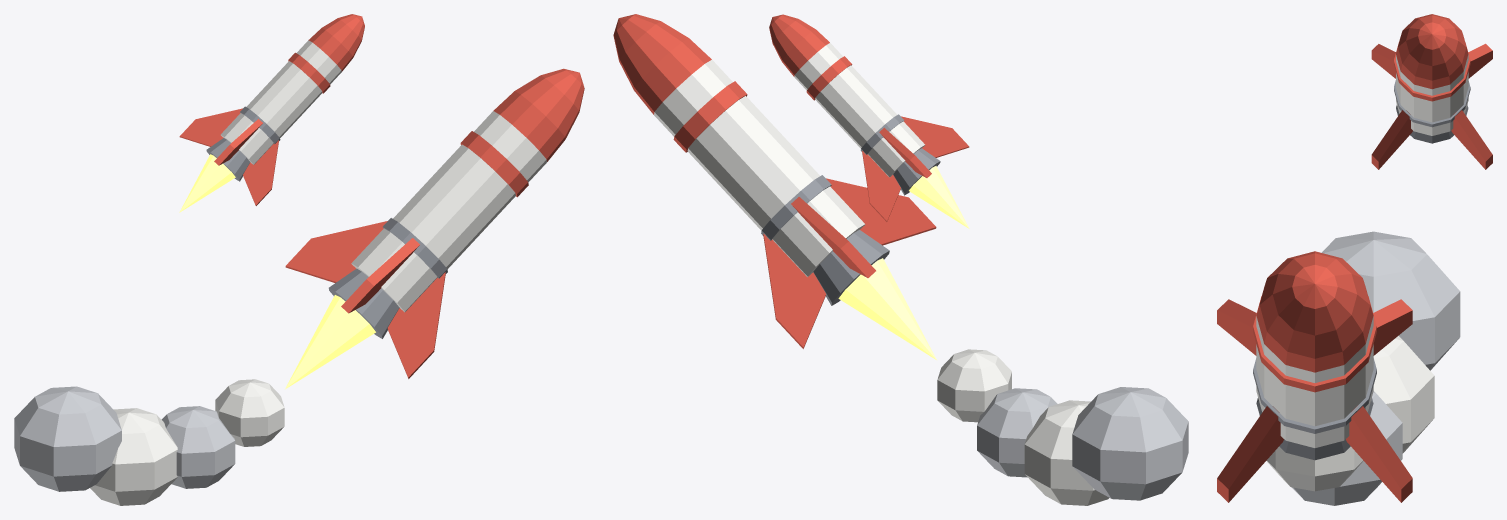
Rendered from item_missiles.glb.
3 views of the same model, side by side, from view 1: azimuth 30°, elevation 25°; view 2: azimuth 150°, elevation 25°; view 3: azimuth 270°, elevation 25° (orthographic). The views are drawn at different scales.
Parts seen in each view (by area): view 1: item_missiles; view 2: item_missiles; view 3: item_missiles.
Part boxes in pixels (x1,y1,x2,y2): item_missiles: [14, 14, 584, 505]; item_missiles: [613, 14, 1188, 505]; item_missiles: [1217, 14, 1492, 505].
Size of the model in its own units: 1.5 by 1.07 by 0.4234.
